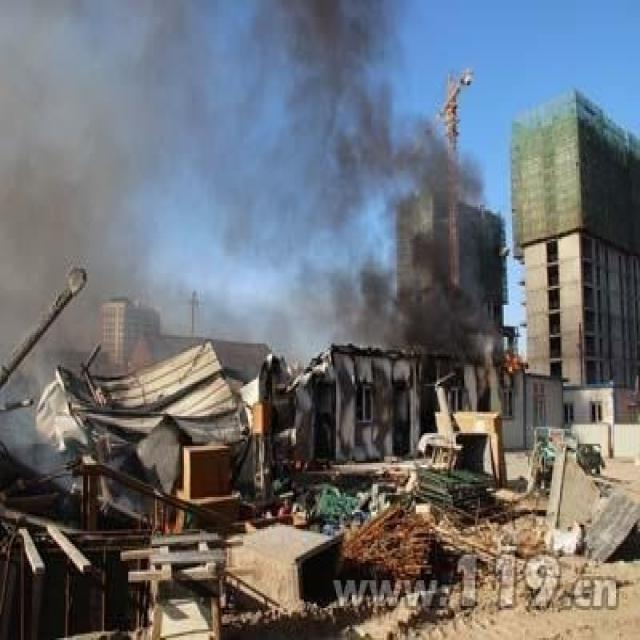Smoke: (1, 2, 502, 393)
